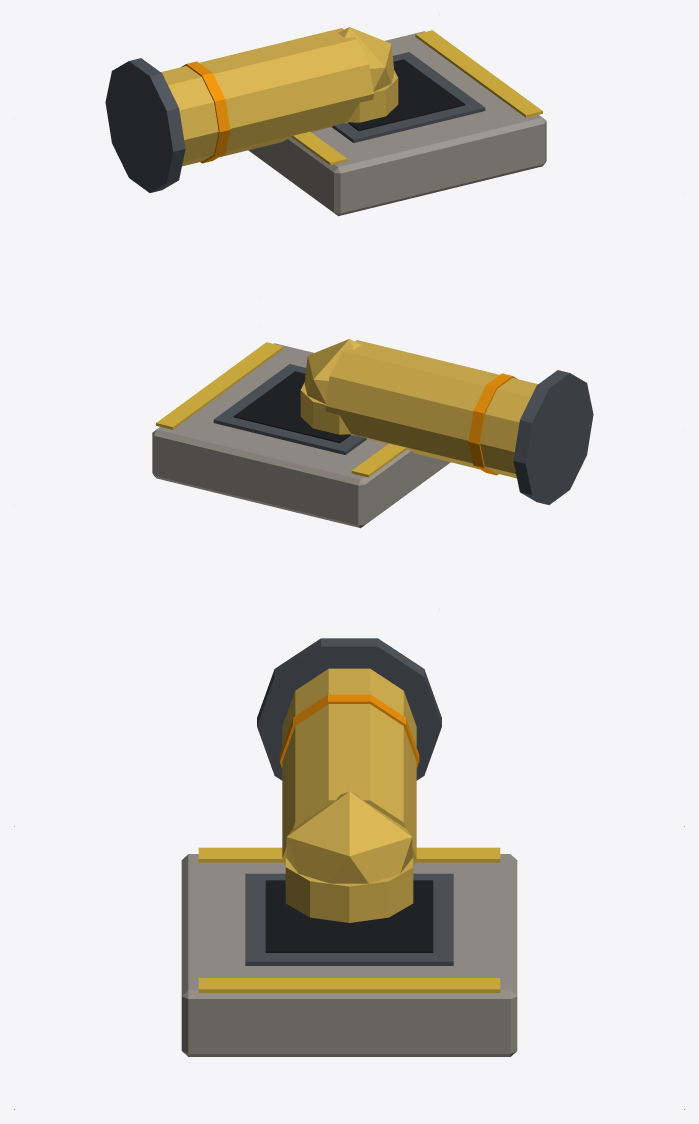
Rendered from tuyau_regard_t2.glb.
3 renders of one model, top to bottom at view 1: azimuth 30°, elevation 25°; view 2: azimuth 150°, elevation 25°; view 3: azimuth 270°, elevation 25°, orthographic. The views are drawn at different scales.
Parts seen in each view (by area): view 1: pieces_laiton.014, pieces_beton.044, pieces_acier_sombre.044, pieces_jaune.008, pieces_noir.008, pieces_rive_t2.014; view 2: pieces_laiton.014, pieces_beton.044, pieces_acier_sombre.044, pieces_jaune.008, pieces_noir.008, pieces_rive_t2.014; view 3: pieces_beton.044, pieces_laiton.014, pieces_acier_sombre.044, pieces_noir.008, pieces_jaune.008, pieces_rive_t2.014.
Part boxes in pixels (left/top/right/bottom): pieces_laiton.014: left=161, top=27, right=398, bottom=166; pieces_beton.044: left=248, top=31, right=546, bottom=216; pieces_acier_sombre.044: left=105, top=52, right=485, bottom=192; pieces_jaune.008: left=291, top=30, right=542, bottom=165; pieces_noir.008: left=348, top=59, right=465, bottom=131; pieces_rive_t2.014: left=181, top=61, right=230, bottom=163; pieces_laiton.014: left=300, top=339, right=537, bottom=478; pieces_beton.044: left=152, top=343, right=450, bottom=528; pieces_acier_sombre.044: left=213, top=364, right=593, bottom=504; pieces_jaune.008: left=156, top=342, right=407, bottom=477; pieces_noir.008: left=233, top=371, right=350, bottom=443; pieces_rive_t2.014: left=468, top=373, right=517, bottom=475; pieces_beton.044: left=181, top=854, right=517, bottom=1056; pieces_laiton.014: left=282, top=668, right=416, bottom=922; pieces_acier_sombre.044: left=245, top=638, right=453, bottom=965; pieces_noir.008: left=265, top=880, right=433, bottom=952; pieces_jaune.008: left=198, top=847, right=500, bottom=992; pieces_rive_t2.014: left=279, top=694, right=419, bottom=768.
Size of the model in its own units: 1 by 0.3112 by 1.
